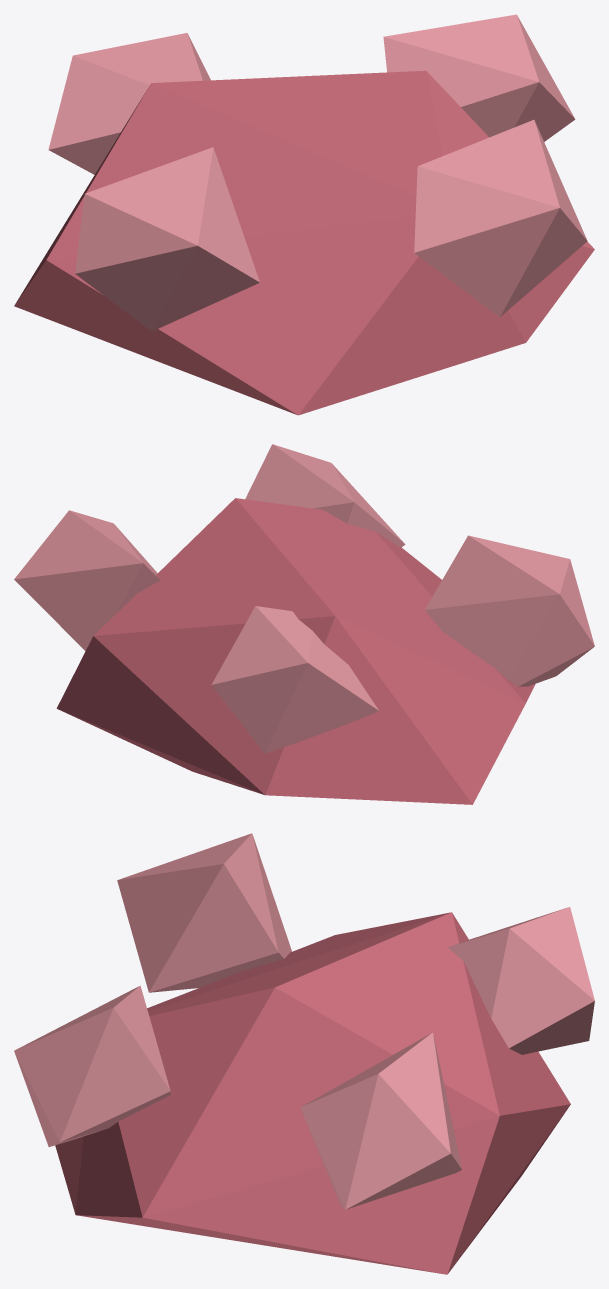
The model's file is objet_tissu_vivant.glb.
3 views of the same model, one above another, from view 1: azimuth 30°, elevation 25°; view 2: azimuth 150°, elevation 25°; view 3: azimuth 270°, elevation 25° (orthographic). The views are drawn at different scales.
Parts seen in each view (by area): view 1: tissu_vivant_chair.002, tissu_vivant_chair_claire.002; view 2: tissu_vivant_chair.002, tissu_vivant_chair_claire.002; view 3: tissu_vivant_chair.002, tissu_vivant_chair_claire.002.
Boxes of the visible parts, box(x1,y1,x2,y2) form: tissu_vivant_chair.002: box(14, 70, 594, 415); tissu_vivant_chair_claire.002: box(48, 14, 587, 331); tissu_vivant_chair.002: box(56, 498, 535, 804); tissu_vivant_chair_claire.002: box(14, 444, 594, 753); tissu_vivant_chair.002: box(55, 912, 570, 1274); tissu_vivant_chair_claire.002: box(14, 833, 594, 1209).
Bounding box in the file's own units: 0.1881 × 0.0665 × 0.1566.
